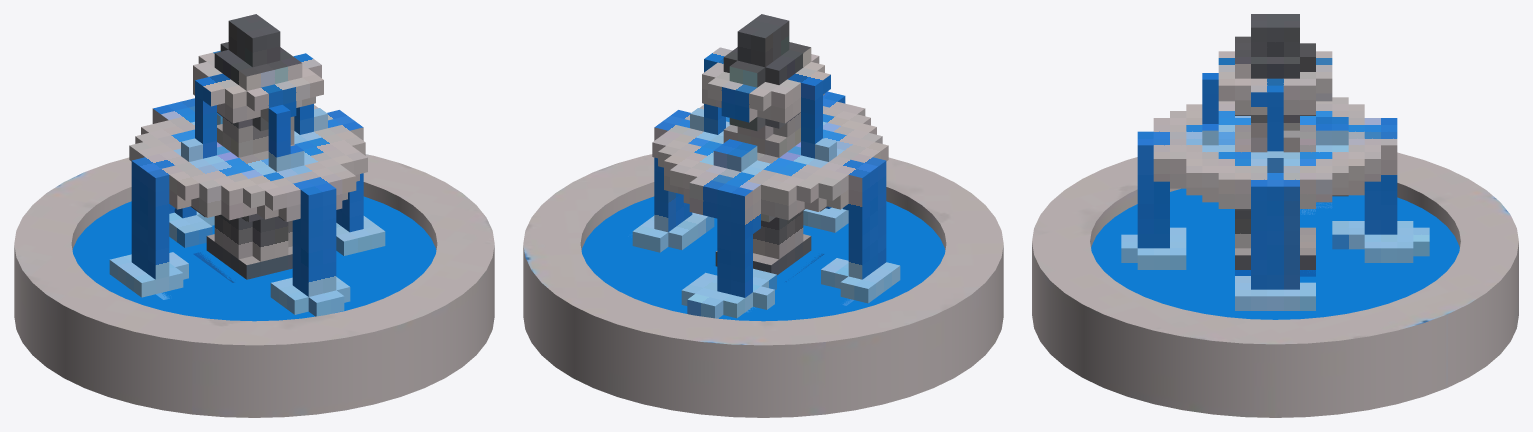
File: fountain.glb
The picture shows the model from 3 angles, left to right: view 1: azimuth 30°, elevation 25°; view 2: azimuth 150°, elevation 25°; view 3: azimuth 270°, elevation 25°; orthographic projection.
Visible parts, largest first — view 1: basin; view 2: basin; view 3: basin.
Part boxes in pixels (<box>): basin: <box>14,14,494,417</box>; basin: <box>523,14,1003,417</box>; basin: <box>1032,14,1518,417</box>.
Size of the model in its own units: 3 by 2 by 3.
3 materials, 2 textured.
